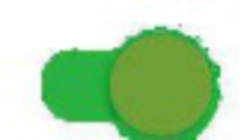Switch: (1, 1, 246, 139)
